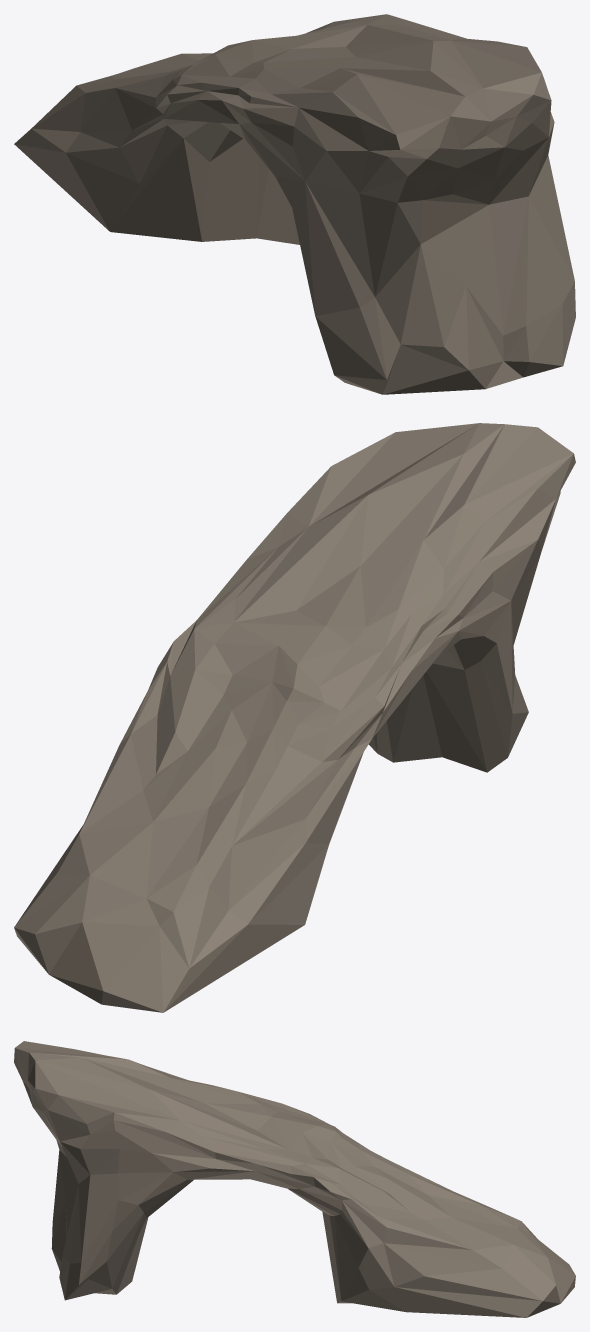
Rendered from SM_Env_Rock_Archway_01.fbx.
3 renders of one model, top to bottom at view 1: azimuth 30°, elevation 25°; view 2: azimuth 150°, elevation 25°; view 3: azimuth 270°, elevation 25°, orthographic. The views are drawn at different scales.
Parts seen in each view (by area): view 1: SM_Env_Rock_Archway_01; view 2: SM_Env_Rock_Archway_01; view 3: SM_Env_Rock_Archway_01.
Part boxes in pixels (left/top/right/bottom): SM_Env_Rock_Archway_01: left=14, top=14, right=575, bottom=394; SM_Env_Rock_Archway_01: left=14, top=423, right=575, bottom=1012; SM_Env_Rock_Archway_01: left=14, top=1041, right=575, bottom=1317.
Size of the model in its own units: 476 by 619 by 1401.
